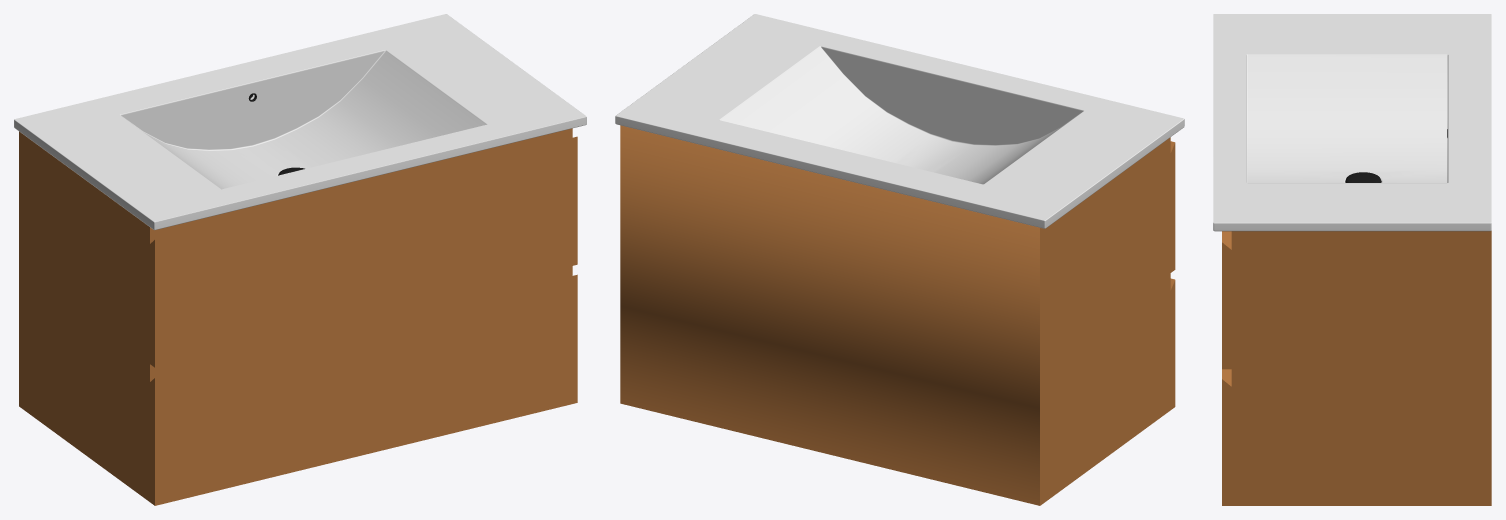
The model's file is BTH_ELIX_Sink.FBX.
The picture shows the model from 3 angles, left to right: view 1: azimuth 30°, elevation 25°; view 2: azimuth 150°, elevation 25°; view 3: azimuth 270°, elevation 25°; orthographic projection.
Parts seen in each view (by area): view 1: Bathroom_ELIX_Sink; view 2: Bathroom_ELIX_Sink; view 3: Bathroom_ELIX_Sink.
Boxes of the visible parts, x1,y1,x2,y2 form: Bathroom_ELIX_Sink: [14, 14, 586, 505]; Bathroom_ELIX_Sink: [615, 14, 1184, 505]; Bathroom_ELIX_Sink: [1213, 14, 1491, 505].
Bounding box in the file's own units: 80 × 50.89 × 45.
